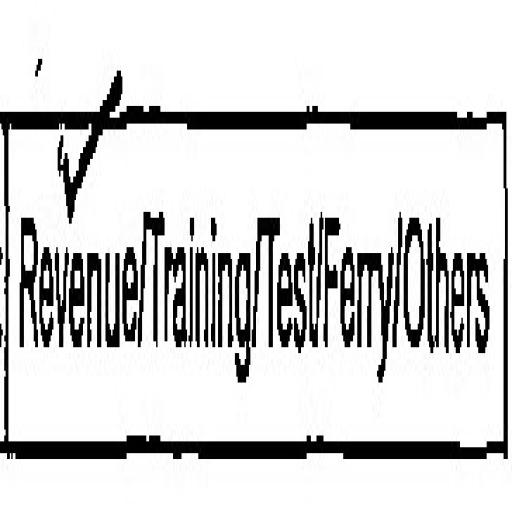check: (2, 0, 142, 469)
